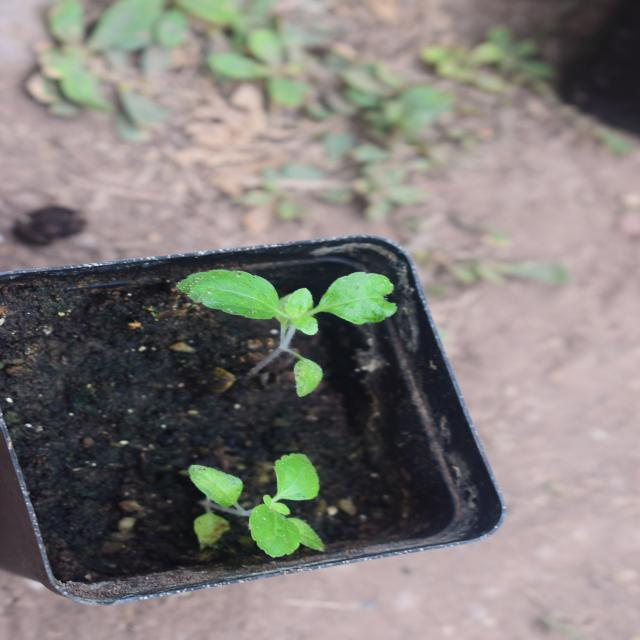billygoat_weed: (241, 233, 359, 472), (444, 297, 556, 448)
